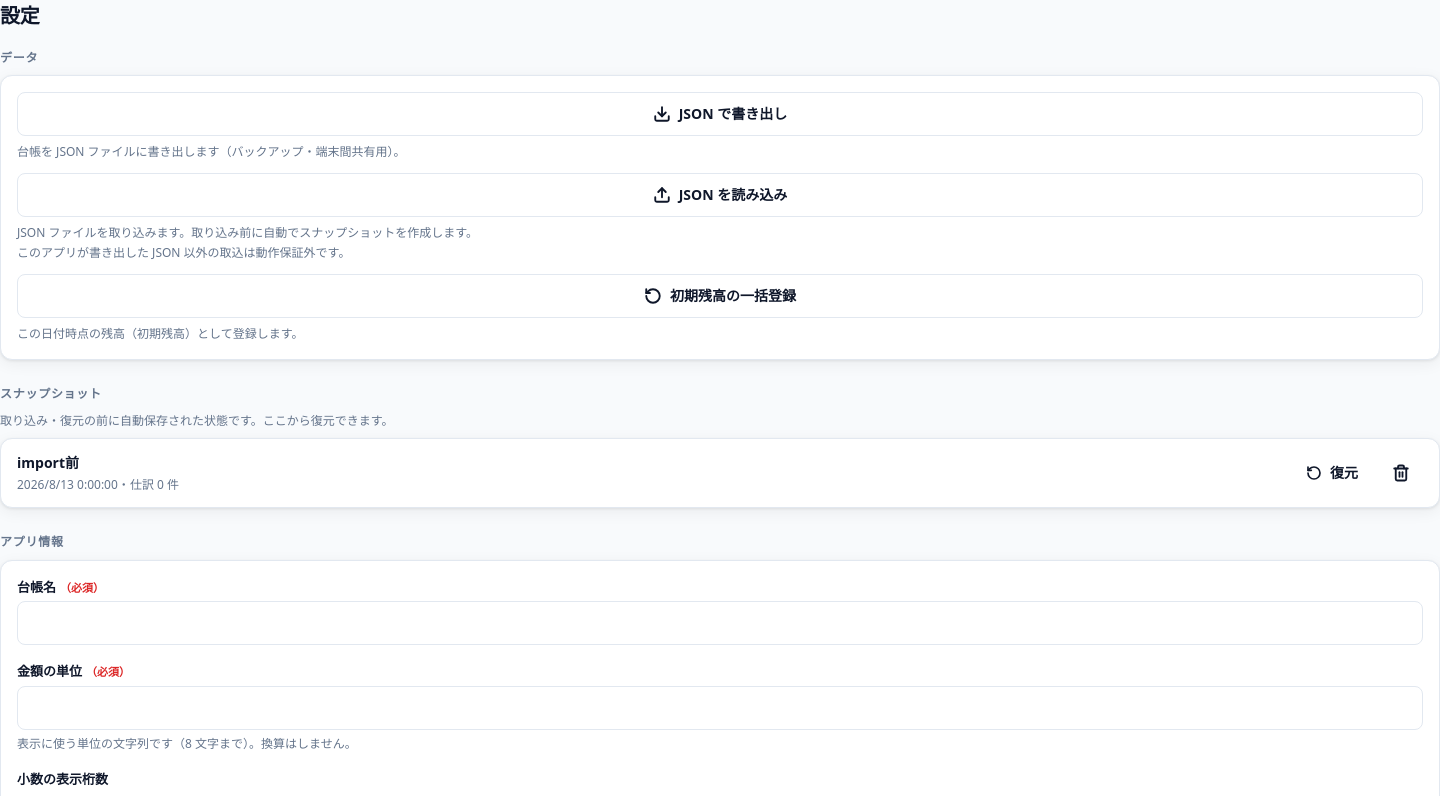
Scenario: Settings スモーク › スナップショット削除の確認にも理由コードではなく翻訳済み文言を出す
The width and height of the screenshot is (1440, 796).
Click the button named "削除: import前" at [1401, 473], box [1379, 451, 1423, 495]
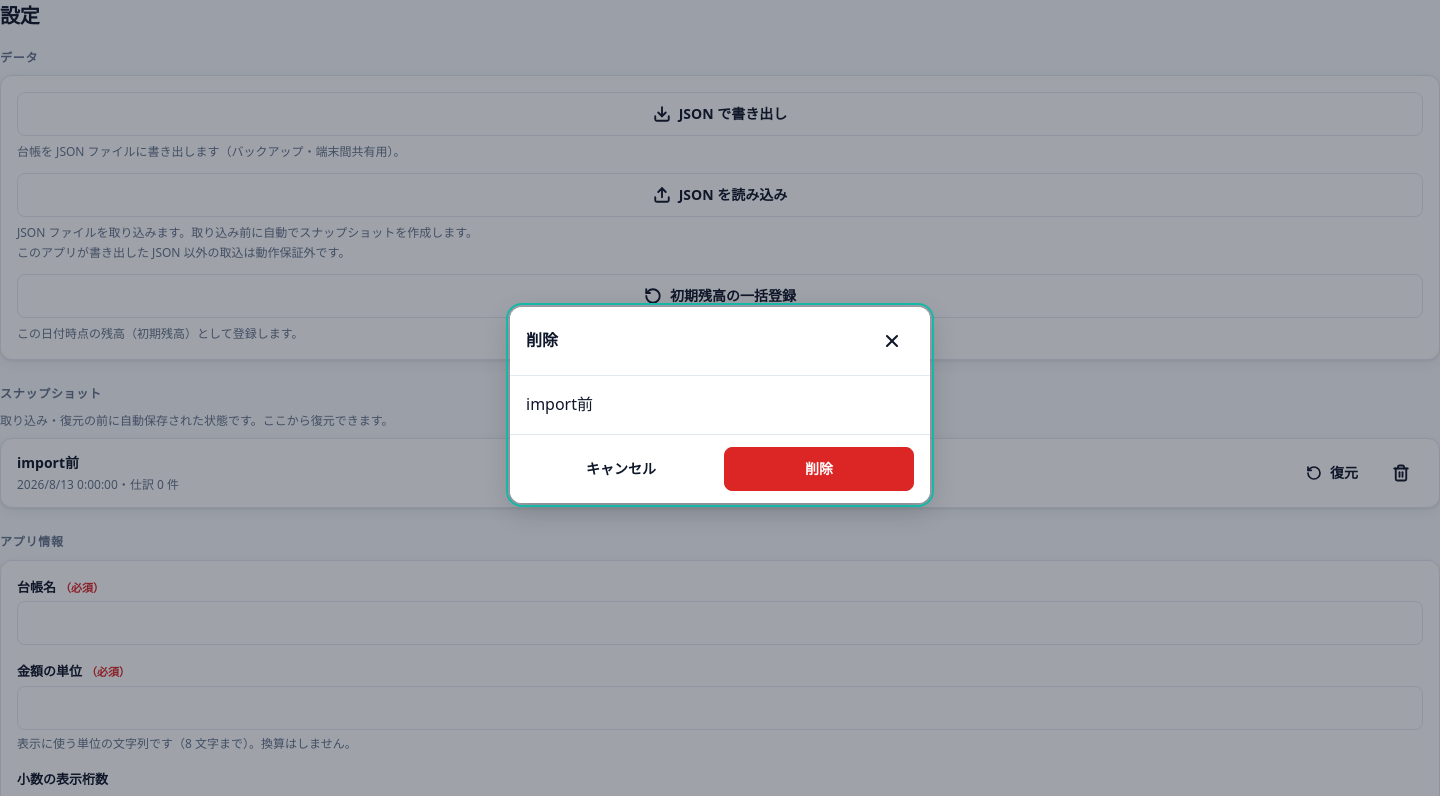
Expected: the text "import前" is shown, [526, 393, 593, 415]
